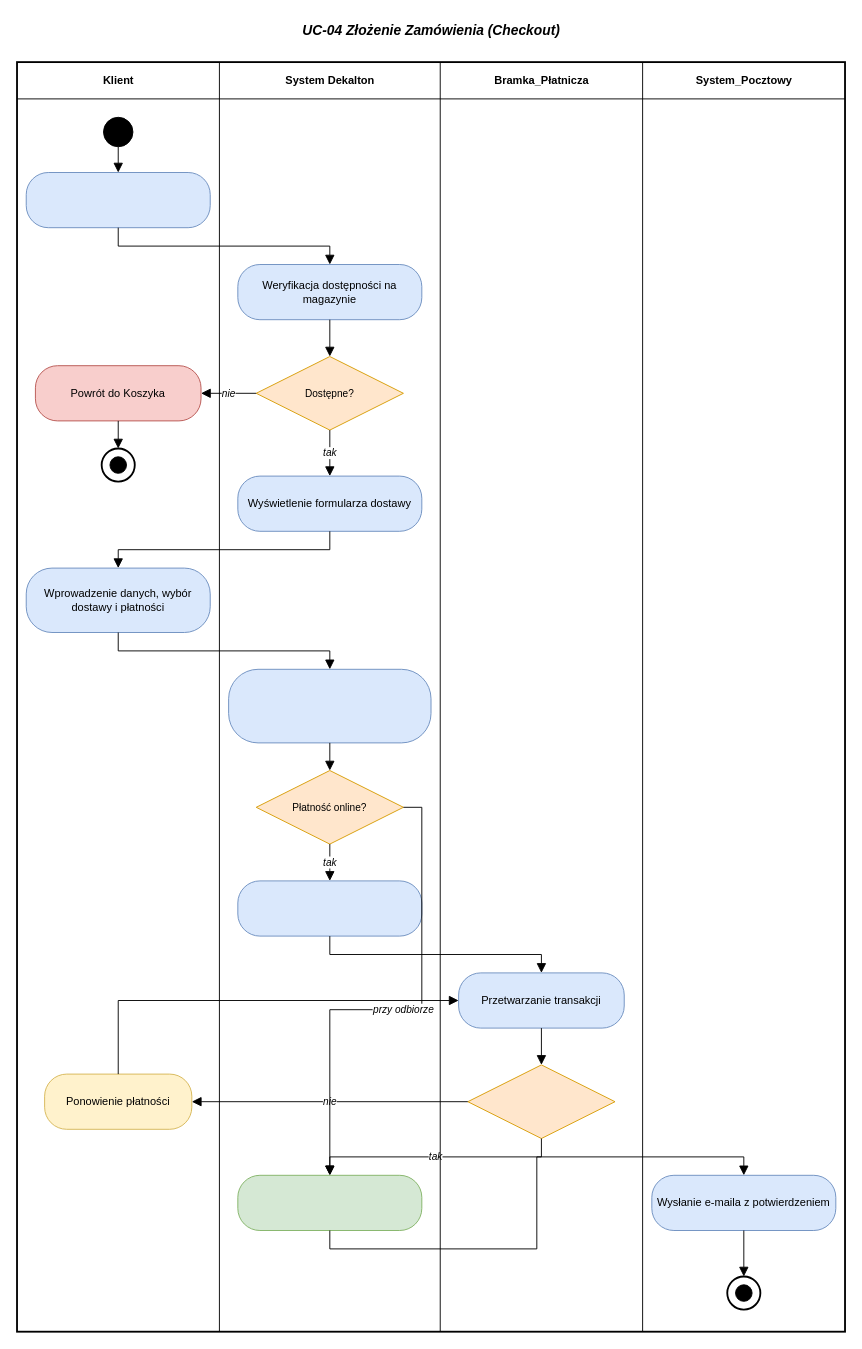
Image size: 862x1349. Some labels were removed from this diagram. Each missing label, with the box of its shape:
Przekierowanie do Bramki_Płatniczej: (237, 880, 422, 936)
Rozpoczęcie checkoutu (wybór w koszyku): (25, 172, 210, 228)
Utworzenie Zamówienia (status NOWE) + rezerwacja magazynu: (228, 668, 431, 743)
Zaakceptowana?: (467, 1064, 615, 1138)
Zmiana statusu na OPŁACONE: (237, 1174, 422, 1230)
